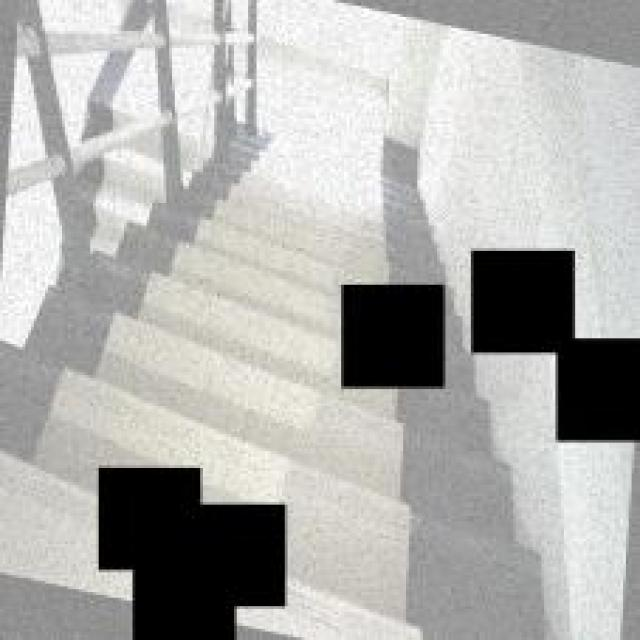downstair: (189, 189, 338, 462)
